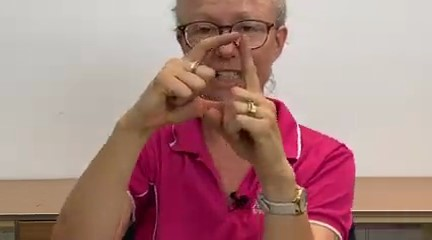D: (115, 25, 296, 162)
